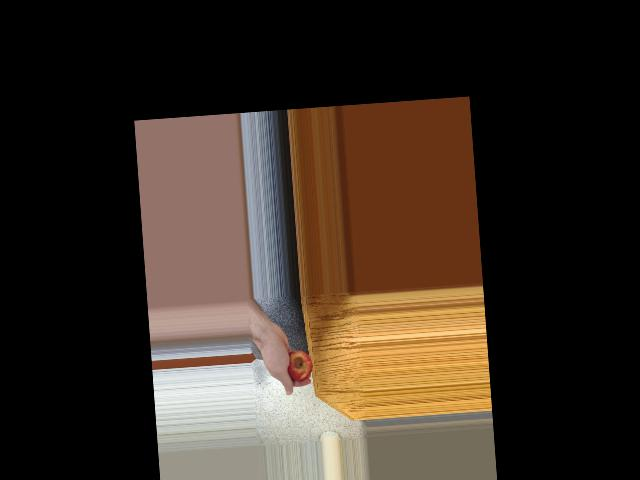apple: (281, 342, 314, 384)
